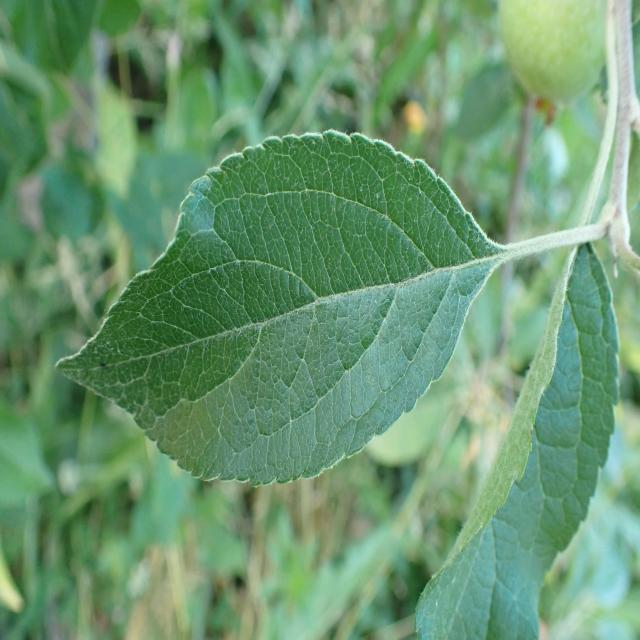healthy: (55, 129, 503, 488), (412, 240, 621, 640)
